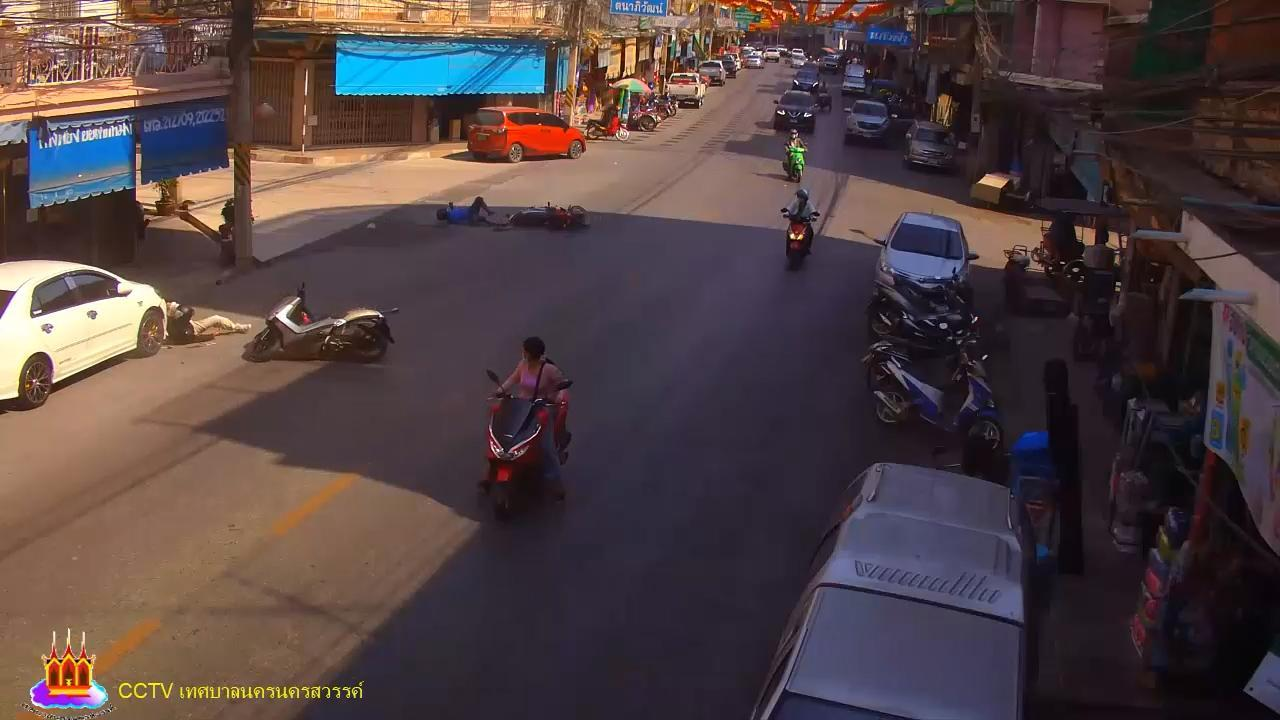accident: (165, 302, 252, 343), (437, 195, 509, 229)
